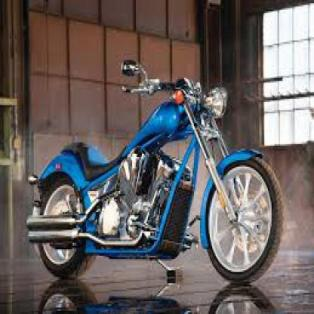Motocicleta: (24, 47, 292, 287)
